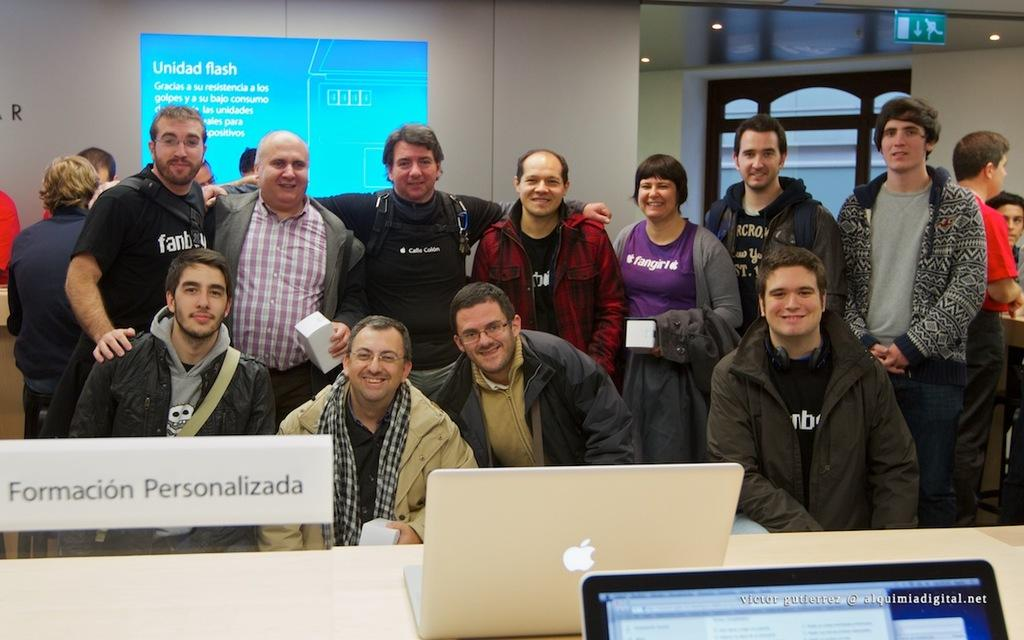Laptop: (410, 464, 744, 639), (575, 543, 953, 640)
